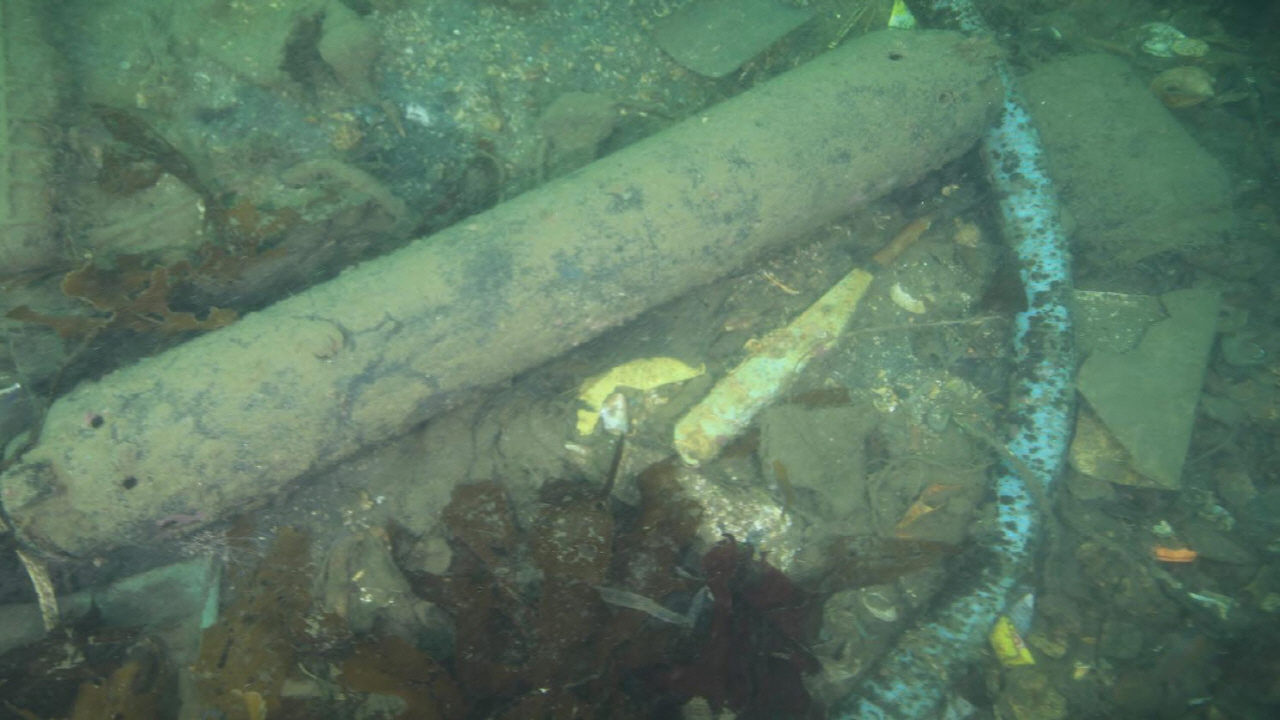eel fish trap: (0, 25, 1005, 562)
